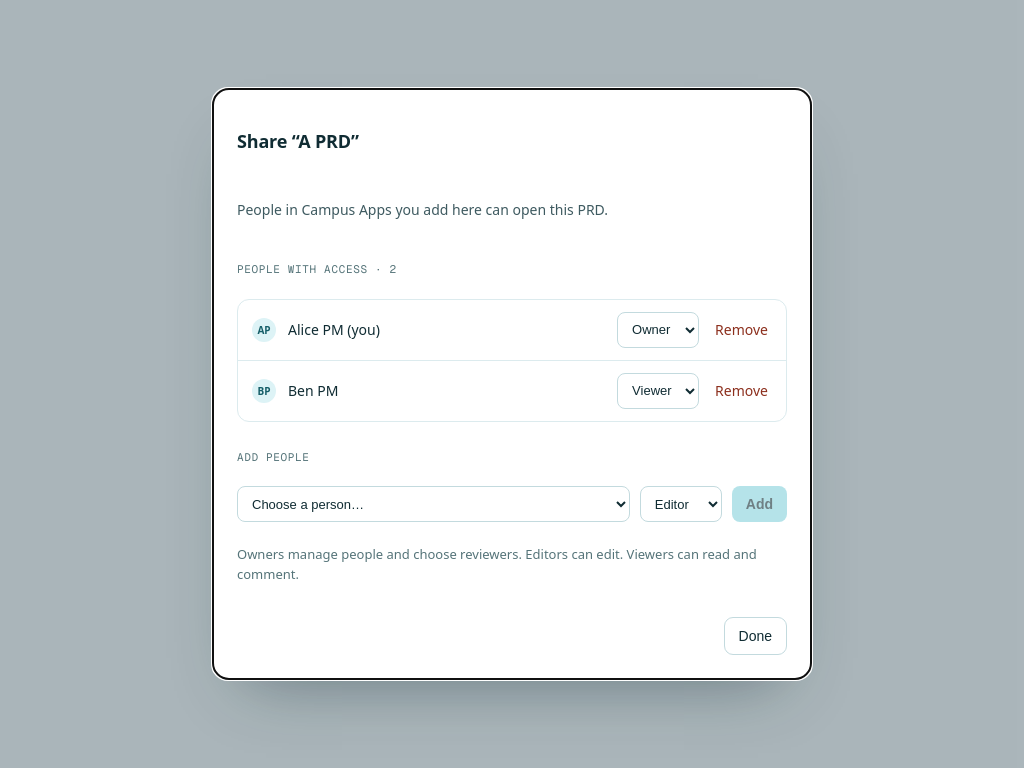
Test: ShareDialog › words forbidden for people and keeps the role shown
Select "Viewer" in the dropdown named "Role for Ben PM" at (658,391), box [617,373,699,409]
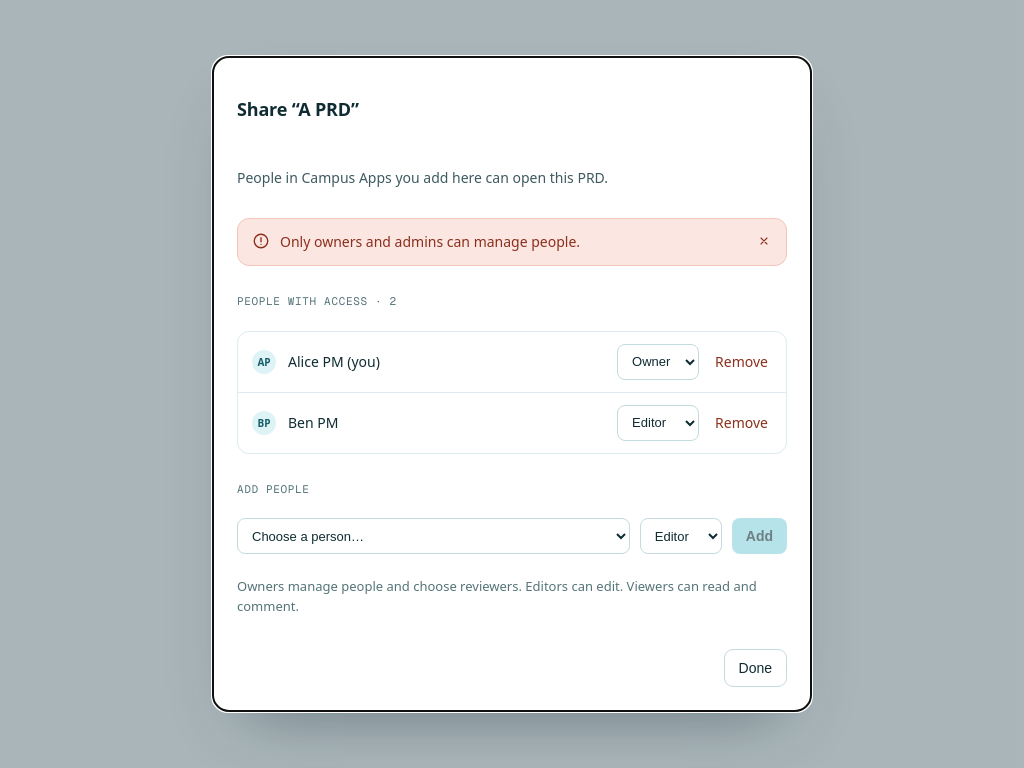
Check: the text "Only owners and admins can manage people." is shown, box [280,232,580,251]
